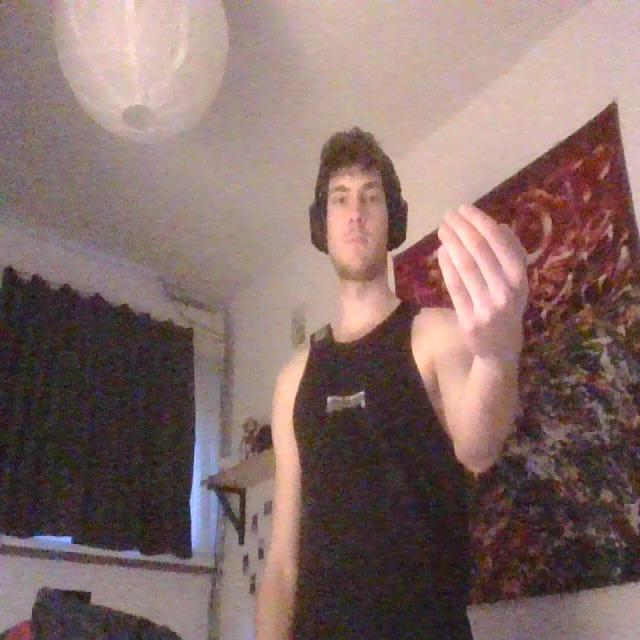forward: (432, 198, 535, 362)
